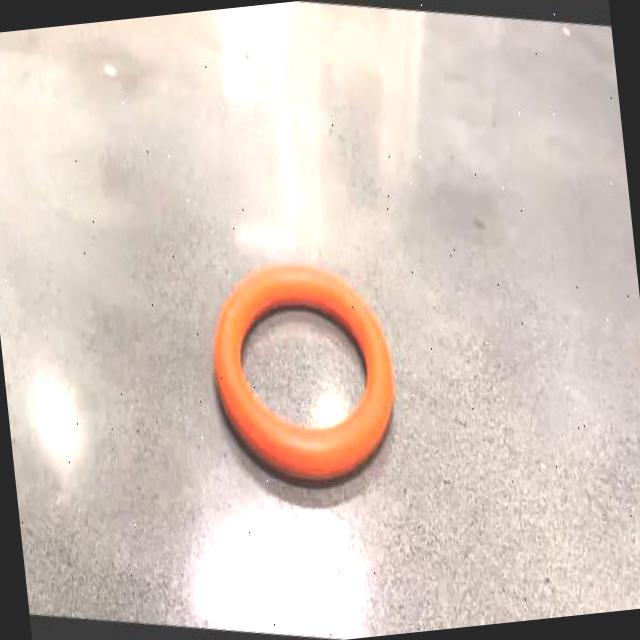note: (213, 265, 394, 480)
